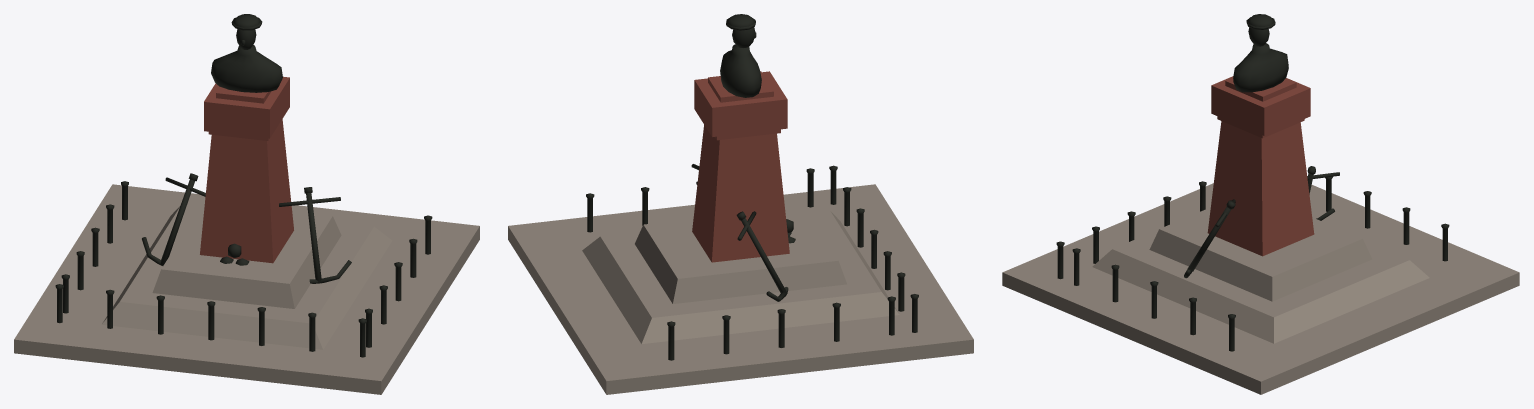
The model's file is koshka.lod.glb.
The picture shows the model from 3 angles, left to right: view 1: azimuth 30°, elevation 25°; view 2: azimuth 150°, elevation 25°; view 3: azimuth 270°, elevation 25°; orthographic projection. The views are drawn at different scales.
Visible parts, largest first — view 1: koshka_stone, koshka_wall2, koshka_wall3; view 2: koshka_stone, koshka_wall2, koshka_wall3; view 3: koshka_stone, koshka_wall2, koshka_wall3.
Boxes of the visible parts, x1=… form: koshka_stone: x1=14, y1=184, x2=479, y2=394; koshka_wall2: x1=200, y1=76, x2=293, y2=263; koshka_wall3: x1=55, y1=14, x2=432, y2=357; koshka_stone: x1=508, y1=184, x2=973, y2=394; koshka_wall2: x1=692, y1=71, x2=789, y2=262; koshka_wall3: x1=586, y1=14, x2=918, y2=360; koshka_stone: x1=1002, y1=183, x2=1519, y2=394; koshka_wall2: x1=1207, y1=76, x2=1314, y2=256; koshka_wall3: x1=1056, y1=14, x2=1449, y2=351.
Size of the model in its own units: 11.31 by 6.5 by 11.31.
